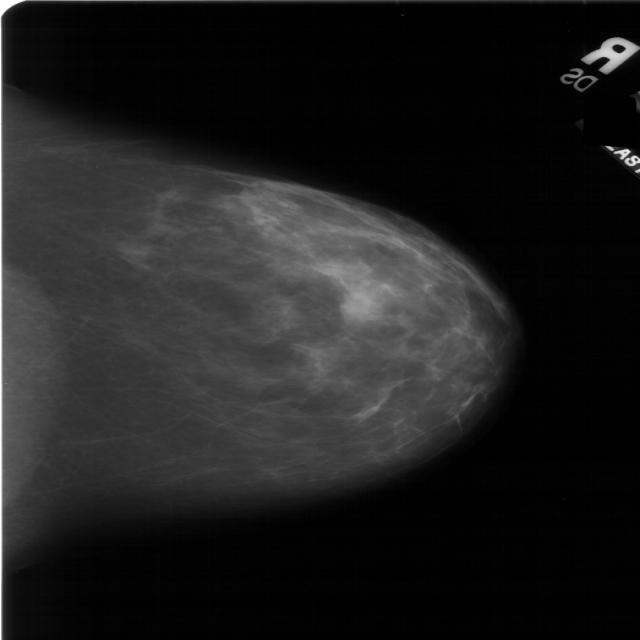tumour: (339, 282, 382, 318)
